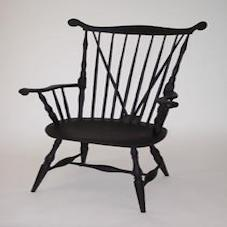chair: (7, 0, 209, 223)
